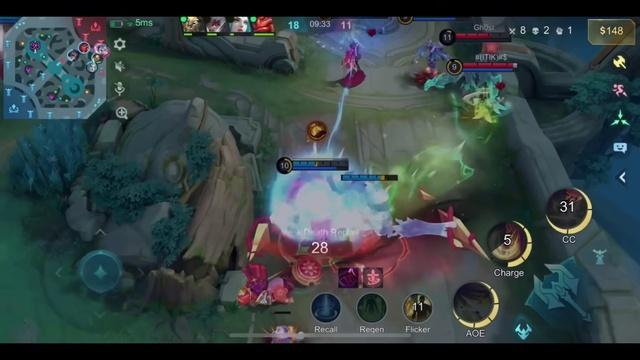Adc_Aliado: (78, 42, 89, 54)
Arbusto: (10, 123, 88, 198)
Aurora: (340, 41, 364, 87)
Chang-e: (463, 82, 510, 127)
Exp_Enemigo: (100, 46, 110, 56)
HP_Aliado: (291, 161, 348, 167)
HP_Enemigo: (463, 63, 516, 68)
Heroe_Muerto: (250, 240, 381, 260)
Jungla_Aliado: (68, 49, 78, 61)
Karry: (407, 37, 452, 82)
Mana: (288, 165, 348, 170)
Mid_Aliado: (85, 61, 98, 73), (99, 43, 106, 51)
Minimapa: (0, 20, 104, 121)
Roamer_Aliado: (92, 52, 102, 63)
Roamer_Enemigo: (95, 43, 101, 52)
Suyou: (419, 65, 506, 100)
